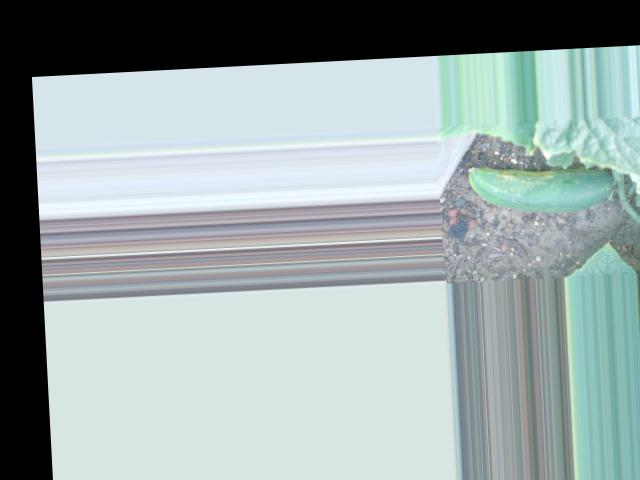cucumber: (467, 159, 613, 216)
